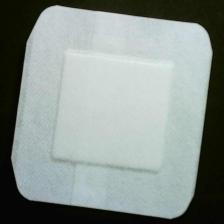Dressing: (9, 6, 215, 219)
